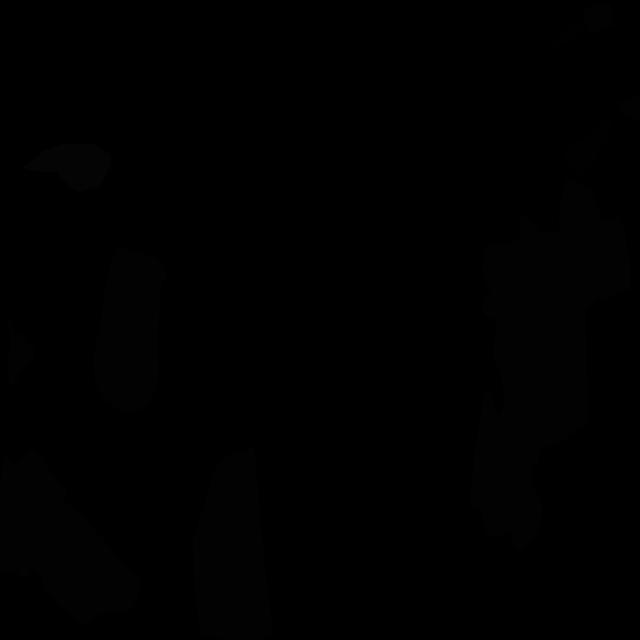cardboard: (482, 177, 630, 455), (0, 448, 142, 624), (193, 446, 273, 640), (470, 374, 543, 552), (93, 246, 167, 413), (7, 319, 36, 386), (582, 3, 614, 33), (618, 96, 640, 121)
rigid_plastic: (562, 113, 612, 176), (550, 20, 592, 46)
soft_plastic: (22, 143, 112, 192)
